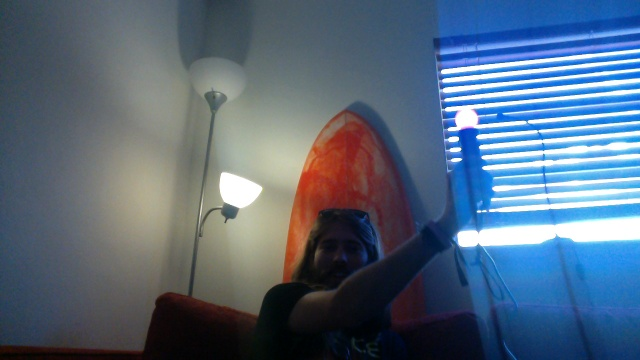wand: (455, 110, 479, 129)
